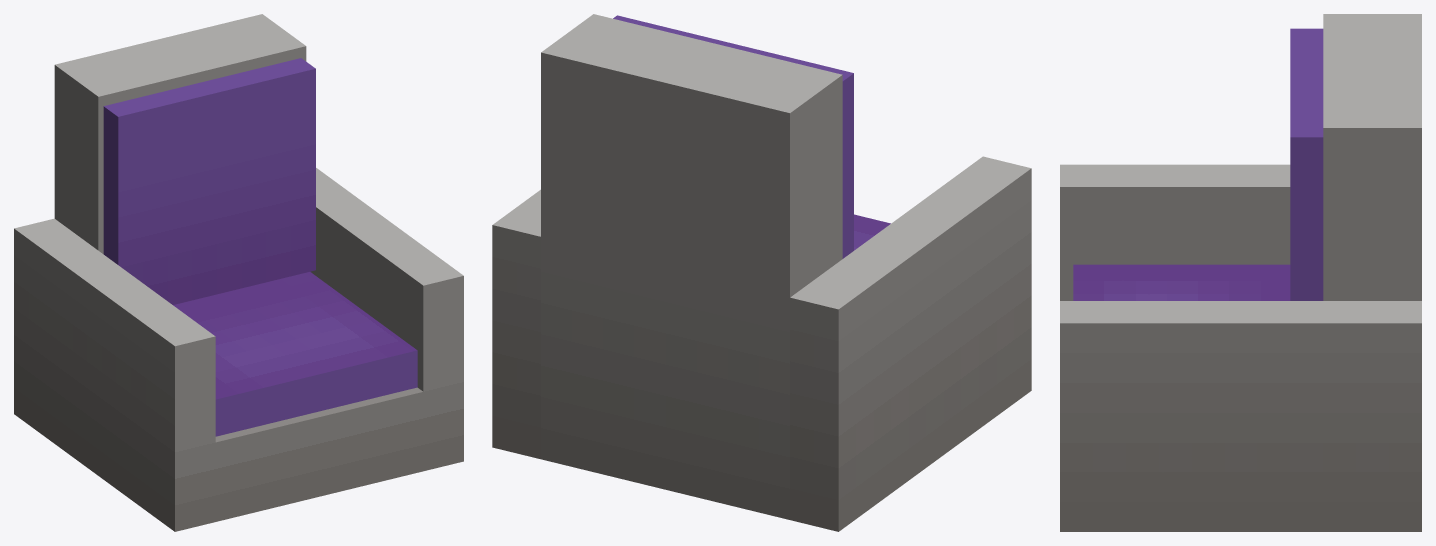
File: Fancy Chair.gltf
3 views of the same model, side by side, from view 1: azimuth 30°, elevation 25°; view 2: azimuth 150°, elevation 25°; view 3: azimuth 270°, elevation 25° (orthographic). The views are drawn at different scales.
Parts seen in each view (by area): view 1: cube (×6); view 2: cube (×5); view 3: cube (×5).
Part boxes in pixels (<box>): cube (×6): <box>14,14,463,531</box>; cube (×5): <box>492,14,1031,531</box>; cube (×5): <box>1060,14,1421,531</box>.
Bounding box in the file's own units: 0.1781 × 0.2 × 0.1719.
Materials: 1 (1 with a texture image).
